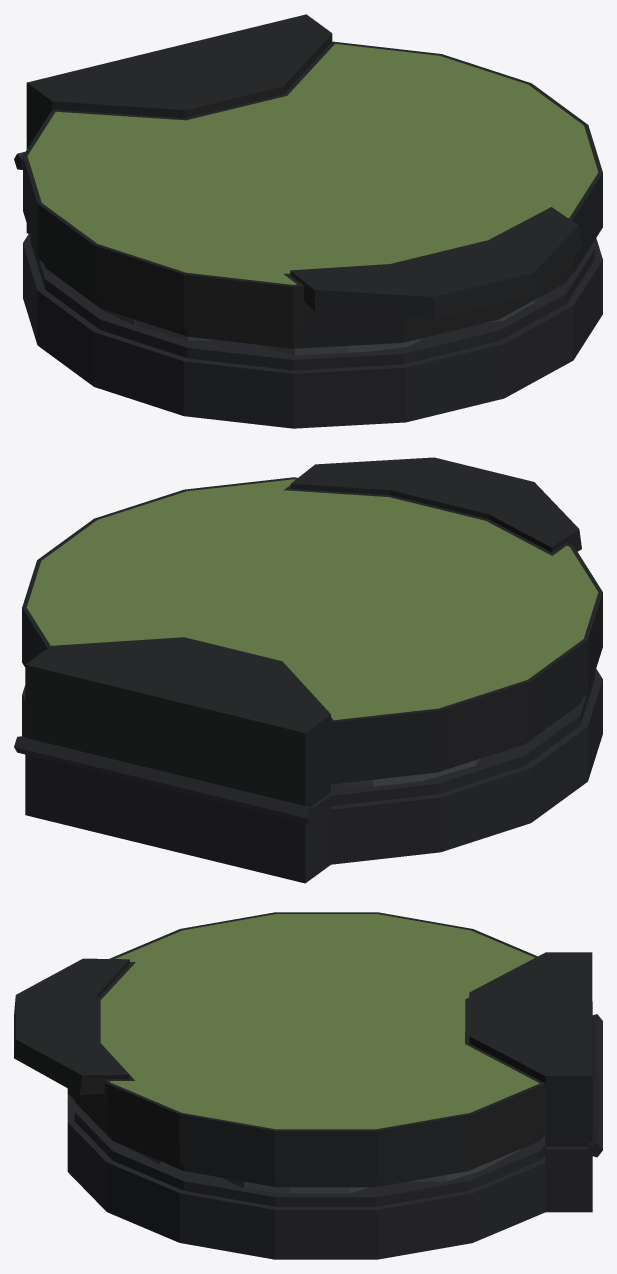
File: wafflemakers_01_B.gltf
3 renders of one model, top to bottom at view 1: azimuth 30°, elevation 25°; view 2: azimuth 150°, elevation 25°; view 3: azimuth 270°, elevation 25°, orthographic. The views are drawn at different scales.
Visible parts, largest first — view 1: Capforwafflemakers_01_B, wafflemakers_01_B; view 2: Capforwafflemakers_01_B, wafflemakers_01_B; view 3: Capforwafflemakers_01_B, wafflemakers_01_B.
Boxes of the visible parts, x1=… form: Capforwafflemakers_01_B: x1=23, y1=14, x2=602, y2=348; wafflemakers_01_B: x1=14, y1=152, x2=602, y2=428; Capforwafflemakers_01_B: x1=22, y1=457, x2=602, y2=806; wafflemakers_01_B: x1=14, y1=669, x2=602, y2=883; Capforwafflemakers_01_B: x1=14, y1=912, x2=592, y2=1187; wafflemakers_01_B: x1=67, y1=1014, x2=602, y2=1259.
Size of the model in its own units: 0.2298 by 0.0668 by 0.2615.
Materials: 1 (1 with a texture image).
